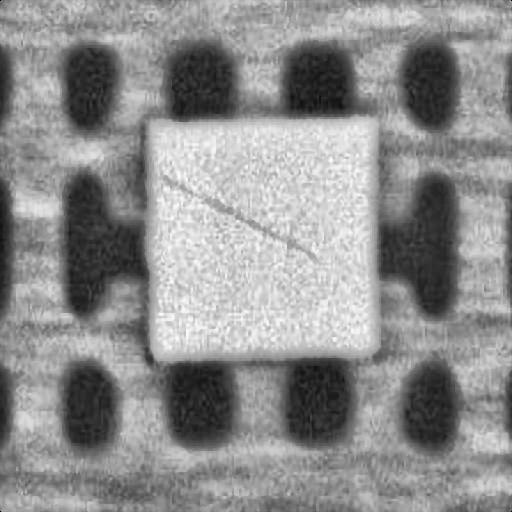DIE_CRACK: (241, 117, 467, 168)
